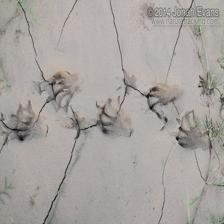beaver: (94, 105, 136, 140), (144, 81, 187, 112)
